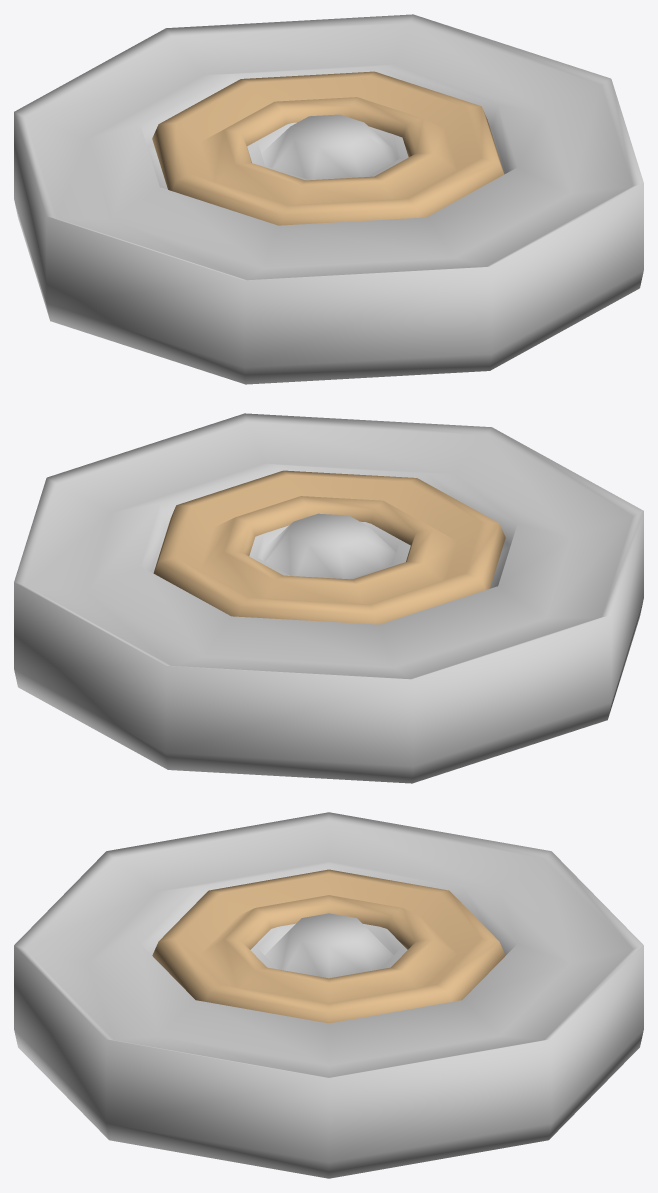
The model's file is pieces-classic-queen2.gltf.
3 views of the same model, one above another, from view 1: azimuth 30°, elevation 25°; view 2: azimuth 150°, elevation 25°; view 3: azimuth 270°, elevation 25° (orthographic). The views are drawn at different scales.
Size of the model in its own units: 1.38 by 0.2842 by 1.38.
